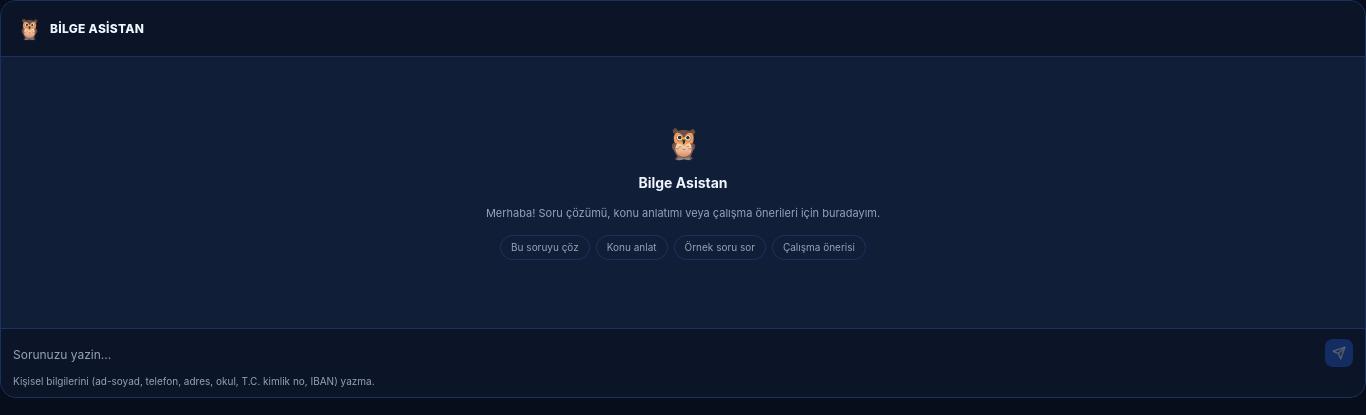
Test: StudyAssistant › rate-limit yanıtını konu anlatımı gibi tahtaya taşımaz
Step 1. Type "Konu anlat" into the text box with placeholder "Sorunuzu yazin..." → (665, 357), box [13,347,1317,367]
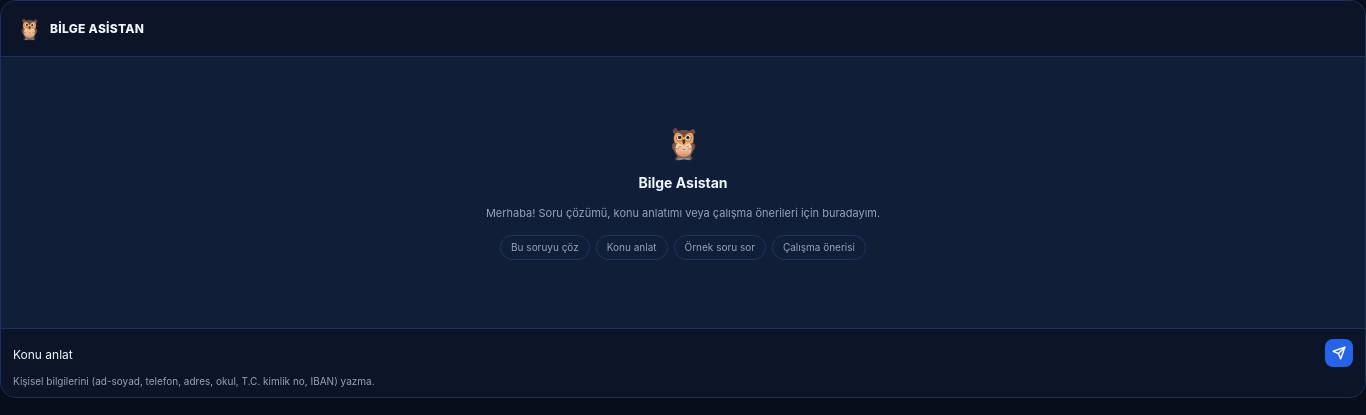
Step 2. Click the button named "Gonder" → (1339, 353), box [1325,339,1353,367]
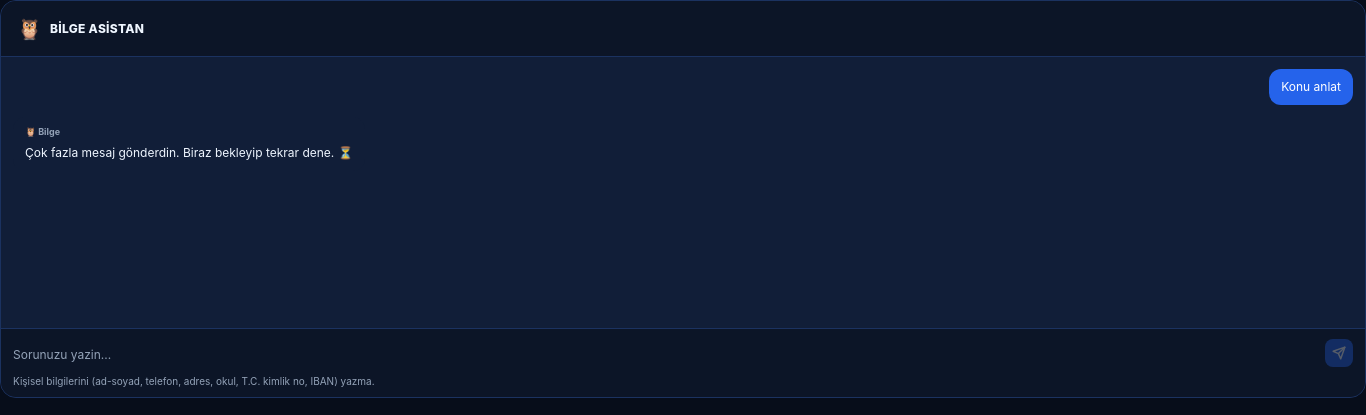
Expected: the text "Çok fazla mesaj gönderdin. Biraz bekleyip tekrar dene. ⏳" is shown, [25,143,353,163]
